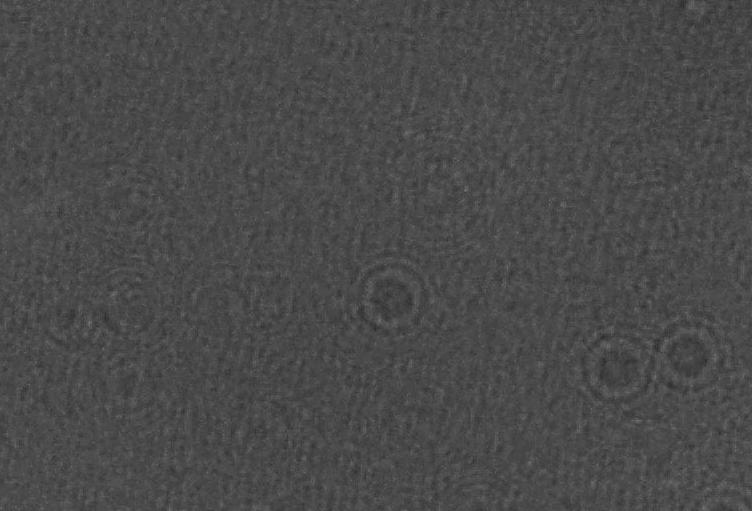bead: (324, 242, 456, 353), (645, 307, 749, 411), (567, 322, 654, 409), (667, 472, 752, 511)
